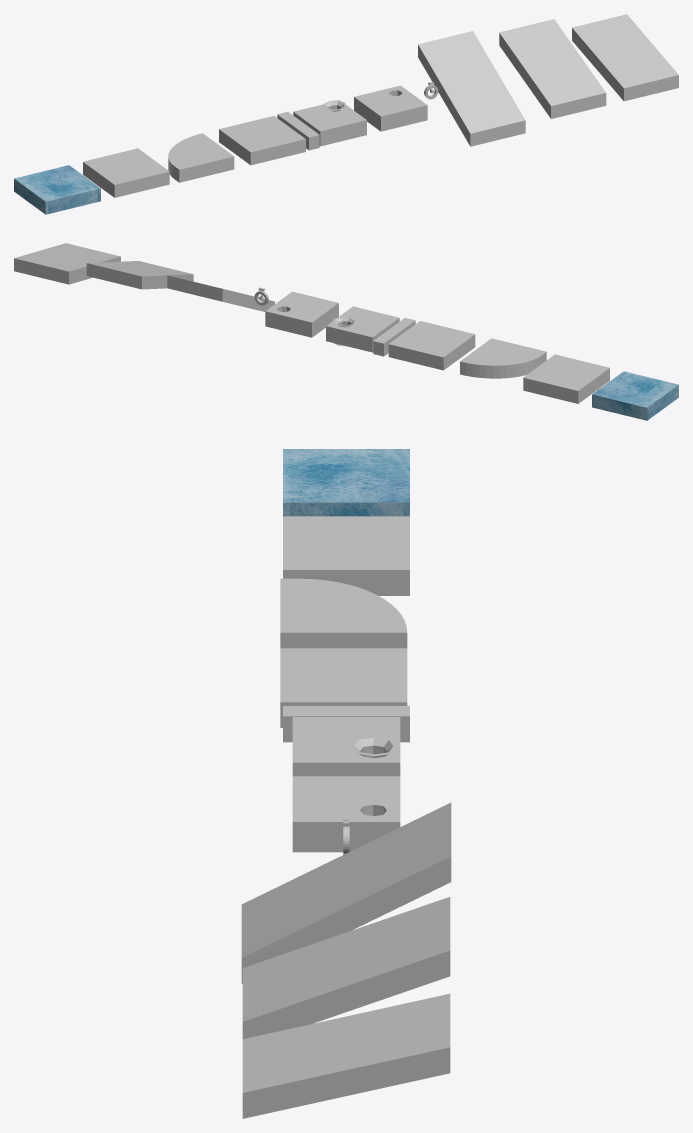
File: Parkour2.fbx
3 renders of one model, top to bottom at view 1: azimuth 30°, elevation 25°; view 2: azimuth 150°, elevation 25°; view 3: azimuth 270°, elevation 25°, orthographic. The views are drawn at different scales.
Visible parts, largest first — view 1: Cube.011, Cube.008, Cube.002, Cube, Cube.003, Cube.001, CubeWithHole2, Corner, CubeWithHole, Cube.004; view 2: Cube, Cube.003, Cube.001, Cube.002, Corner, CubeWithHole2, CubeWithHole, Cube.008, Cube.011, Cube.004; view 3: Cube.002, Cube.008, Cube.011, Cube.001, Cube.003, Corner, CubeWithHole2, Cube, CubeWithHole, Cube.004.
Part boxes in pixels (bbox=[...]): Cube.011: bbox=[418, 31, 525, 146]; Cube.008: bbox=[499, 19, 606, 118]; Cube.002: bbox=[572, 14, 678, 101]; Cube: bbox=[219, 116, 305, 165]; Cube.003: bbox=[14, 165, 100, 214]; Cube.001: bbox=[83, 148, 169, 197]; CubeWithHole2: bbox=[354, 85, 427, 131]; Corner: bbox=[168, 133, 234, 182]; CubeWithHole: bbox=[293, 100, 366, 146]; Cube.004: bbox=[277, 111, 319, 150]; Cube: bbox=[388, 321, 475, 370]; Cube.003: bbox=[592, 371, 678, 420]; Cube.001: bbox=[523, 354, 609, 403]; Cube.002: bbox=[14, 243, 120, 284]; Corner: bbox=[460, 338, 546, 378]; CubeWithHole2: bbox=[265, 291, 338, 337]; CubeWithHole: bbox=[326, 306, 399, 352]; Cube.008: bbox=[86, 261, 193, 289]; Cube.011: bbox=[167, 275, 274, 311]; Cube.004: bbox=[373, 318, 415, 356]; Cube.002: bbox=[242, 993, 450, 1118]; Cube.008: bbox=[242, 897, 450, 1038]; Cube.011: bbox=[241, 802, 451, 983]; Cube.001: bbox=[283, 516, 409, 595]; Cube.003: bbox=[283, 449, 409, 516]; Corner: bbox=[280, 578, 407, 648]; CubeWithHole2: bbox=[292, 776, 400, 852]; Cube: bbox=[280, 648, 407, 727]; CubeWithHole: bbox=[292, 717, 400, 776]; Cube.004: bbox=[283, 706, 409, 742].
Bounding box in the file's own units: 154 × 22.44 × 15.12.
